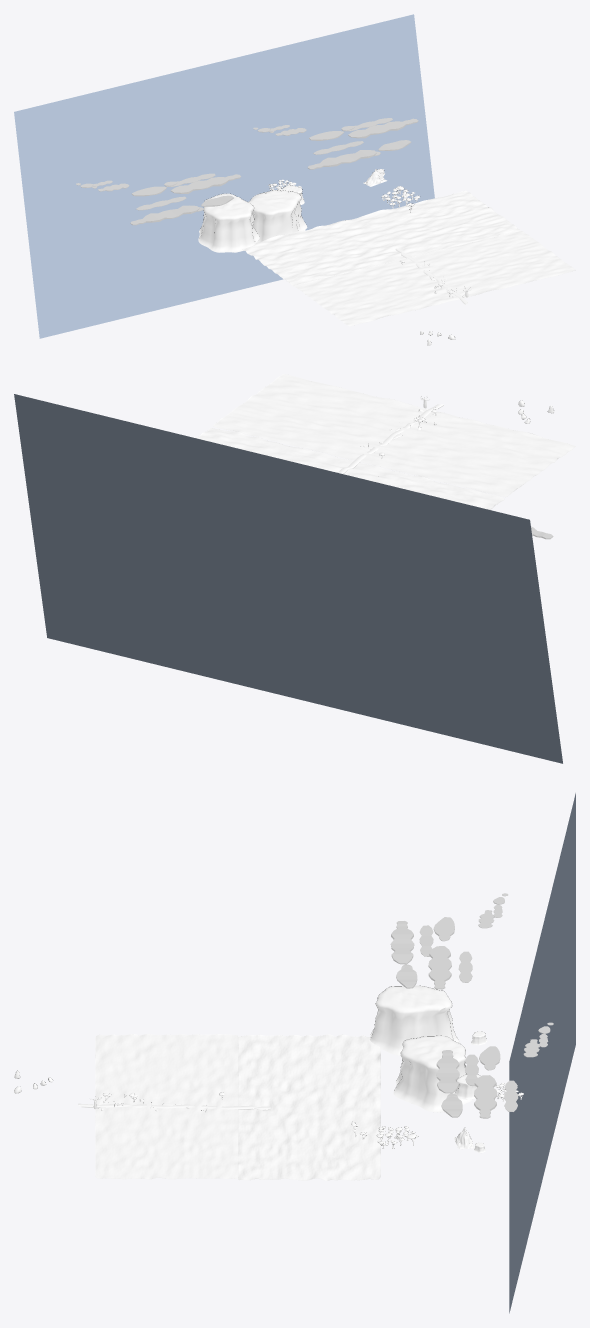
3 renders of one model, top to bottom at view 1: azimuth 30°, elevation 25°; view 2: azimuth 150°, elevation 25°; view 3: azimuth 270°, elevation 25°, orthographic. The views are drawn at different scales.
Parts seen in each view (by area): view 1: Fond color, Sand 1.001, Sand 2, Plateau_winter_004.002, Cloud 2, Cloud 1, Plateau_winter_004.003; view 2: Fond color, Sand 1.001, Sand 2; view 3: Sand 2, Sand 1.001, Fond color, Plateau_winter_004.002, Cloud 1, Cloud 2, Plateau_winter_004.003.
Part boxes in pixels (x1,y1,x2,y2): Fond color: (14, 14, 434, 338); Sand 1.001: (294, 231, 575, 326); Sand 2: (242, 190, 520, 286); Plateau_winter_004.002: (198, 193, 259, 252); Cloud 2: (76, 173, 241, 225); Cloud 1: (253, 118, 418, 169); Plateau_winter_004.003: (248, 190, 307, 242); Fond color: (14, 394, 562, 763); Sand 1.001: (213, 374, 575, 496); Sand 2: (196, 428, 504, 509); Sand 2: (237, 1034, 380, 1180); Sand 1.001: (95, 1034, 238, 1179); Fond color: (509, 793, 575, 1313); Plateau_winter_004.002: (370, 985, 459, 1055); Cloud 1: (436, 1022, 553, 1118); Cloud 2: (390, 893, 508, 989); Plateau_winter_004.003: (393, 1035, 472, 1112).
Size of the model in its own units: 612 by 304 by 575.
Materials: 4 (1 with a texture image).
